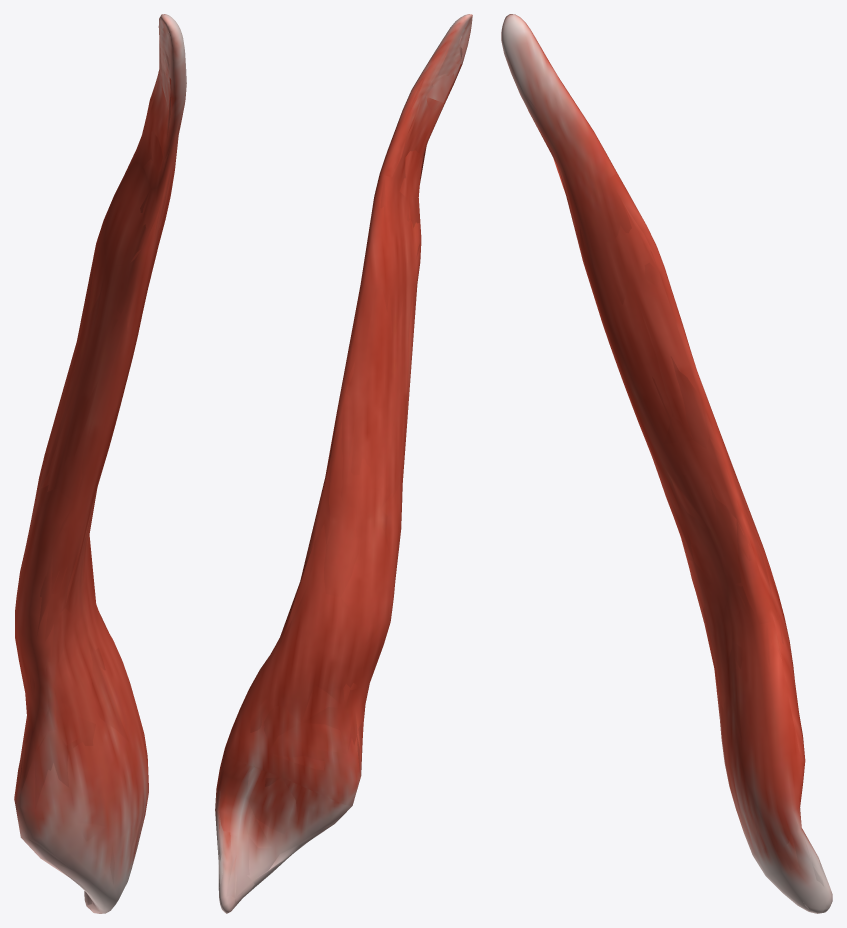
The model's file is L Brachiocephalicus.fbx.
The picture shows the model from 3 angles, left to right: view 1: azimuth 30°, elevation 25°; view 2: azimuth 150°, elevation 25°; view 3: azimuth 270°, elevation 25°; orthographic projection. The views are drawn at different scales.
Parts seen in each view (by area): view 1: L Brachiocephalicus, L Brachiocephalicus low; view 2: L Brachiocephalicus, L Brachiocephalicus low; view 3: L Brachiocephalicus, L Brachiocephalicus low.
Part boxes in pixels (x1=…): L Brachiocephalicus: x1=14, y1=14, x2=186, y2=913; L Brachiocephalicus low: x1=15, y1=16, x2=185, y2=913; L Brachiocephalicus: x1=215, y1=14, x2=472, y2=913; L Brachiocephalicus low: x1=215, y1=14, x2=471, y2=910; L Brachiocephalicus: x1=501, y1=14, x2=832, y2=913; L Brachiocephalicus low: x1=511, y1=14, x2=829, y2=913.
Bounding box in the file's own units: 16.27 × 96.02 × 33.91.
